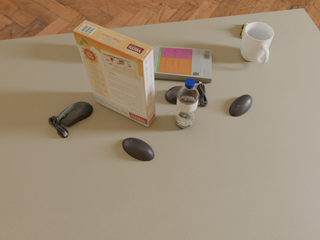book: (153, 46, 212, 83)
bottle: (176, 78, 199, 129)
box: (73, 20, 155, 127)
cup: (241, 22, 274, 64)
mouse: (49, 102, 93, 138), (165, 82, 208, 107), (122, 138, 154, 161), (229, 95, 252, 116)
toy_car: (240, 23, 249, 38)
